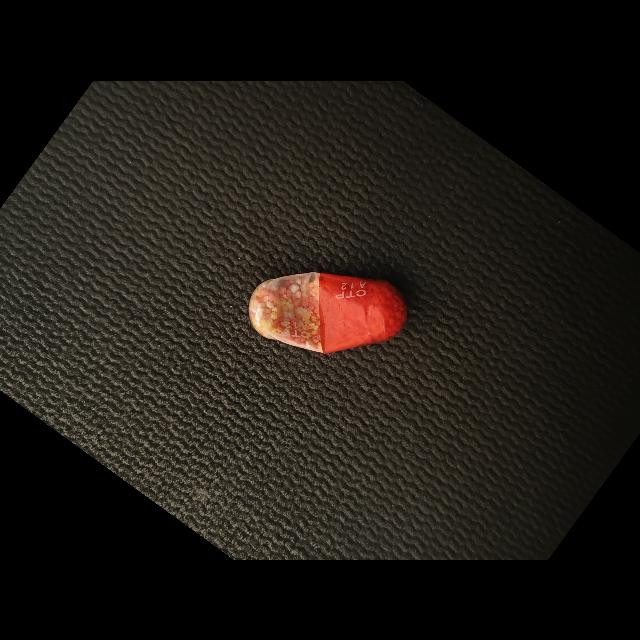Defective Capsule: (249, 271, 407, 354)
